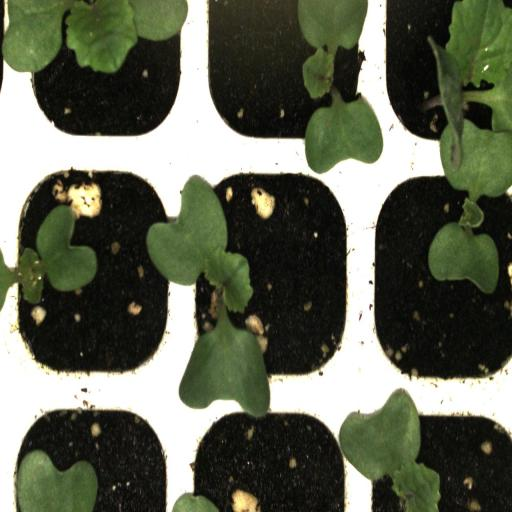Folha: (0, 0, 188, 74), (338, 391, 441, 512), (0, 204, 98, 306)
Germinacao: (8, 147, 192, 388), (189, 154, 365, 388), (367, 159, 512, 388), (197, 0, 369, 153), (370, 0, 512, 162)
